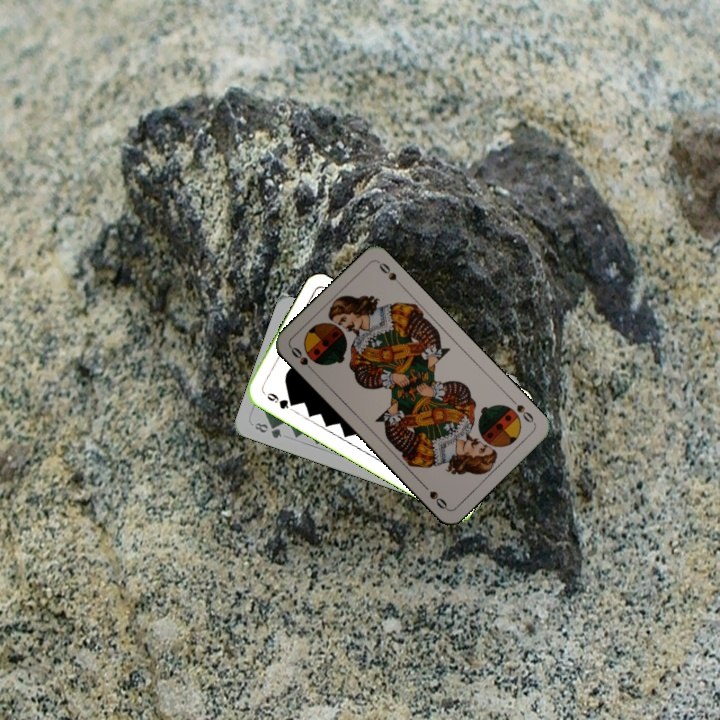G8: (250, 418, 284, 441)
G9: (259, 388, 297, 412)
SO: (506, 394, 538, 426), (287, 343, 318, 376)
